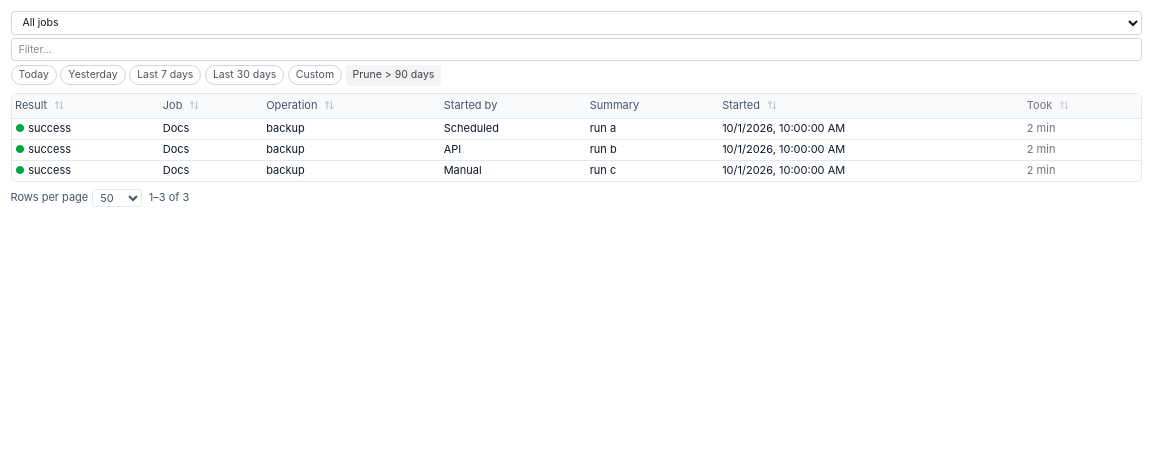
backup run history detail › shows each destination's result for a run that replicated, with the failure's reason
Click the button "run a" at point(603, 129), box [590,120,616,137]
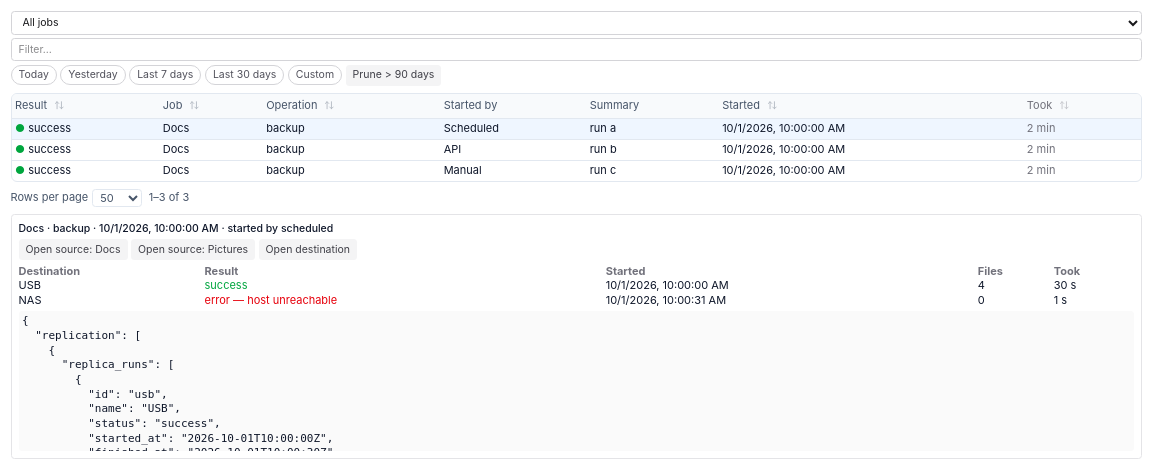
Expected: the text "USB" is shown, [18,278,204,293]
Expected: the text "error — host unreachable" is shown, [204,293,606,308]
Expected: the element with test id "run-details" shows "started by scheduled", [10,214,1142,459]
